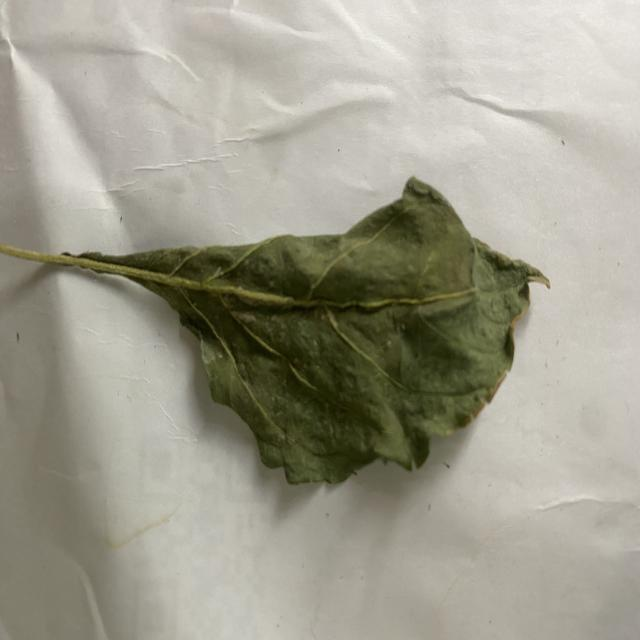Leaf: (119, 176, 552, 489)
